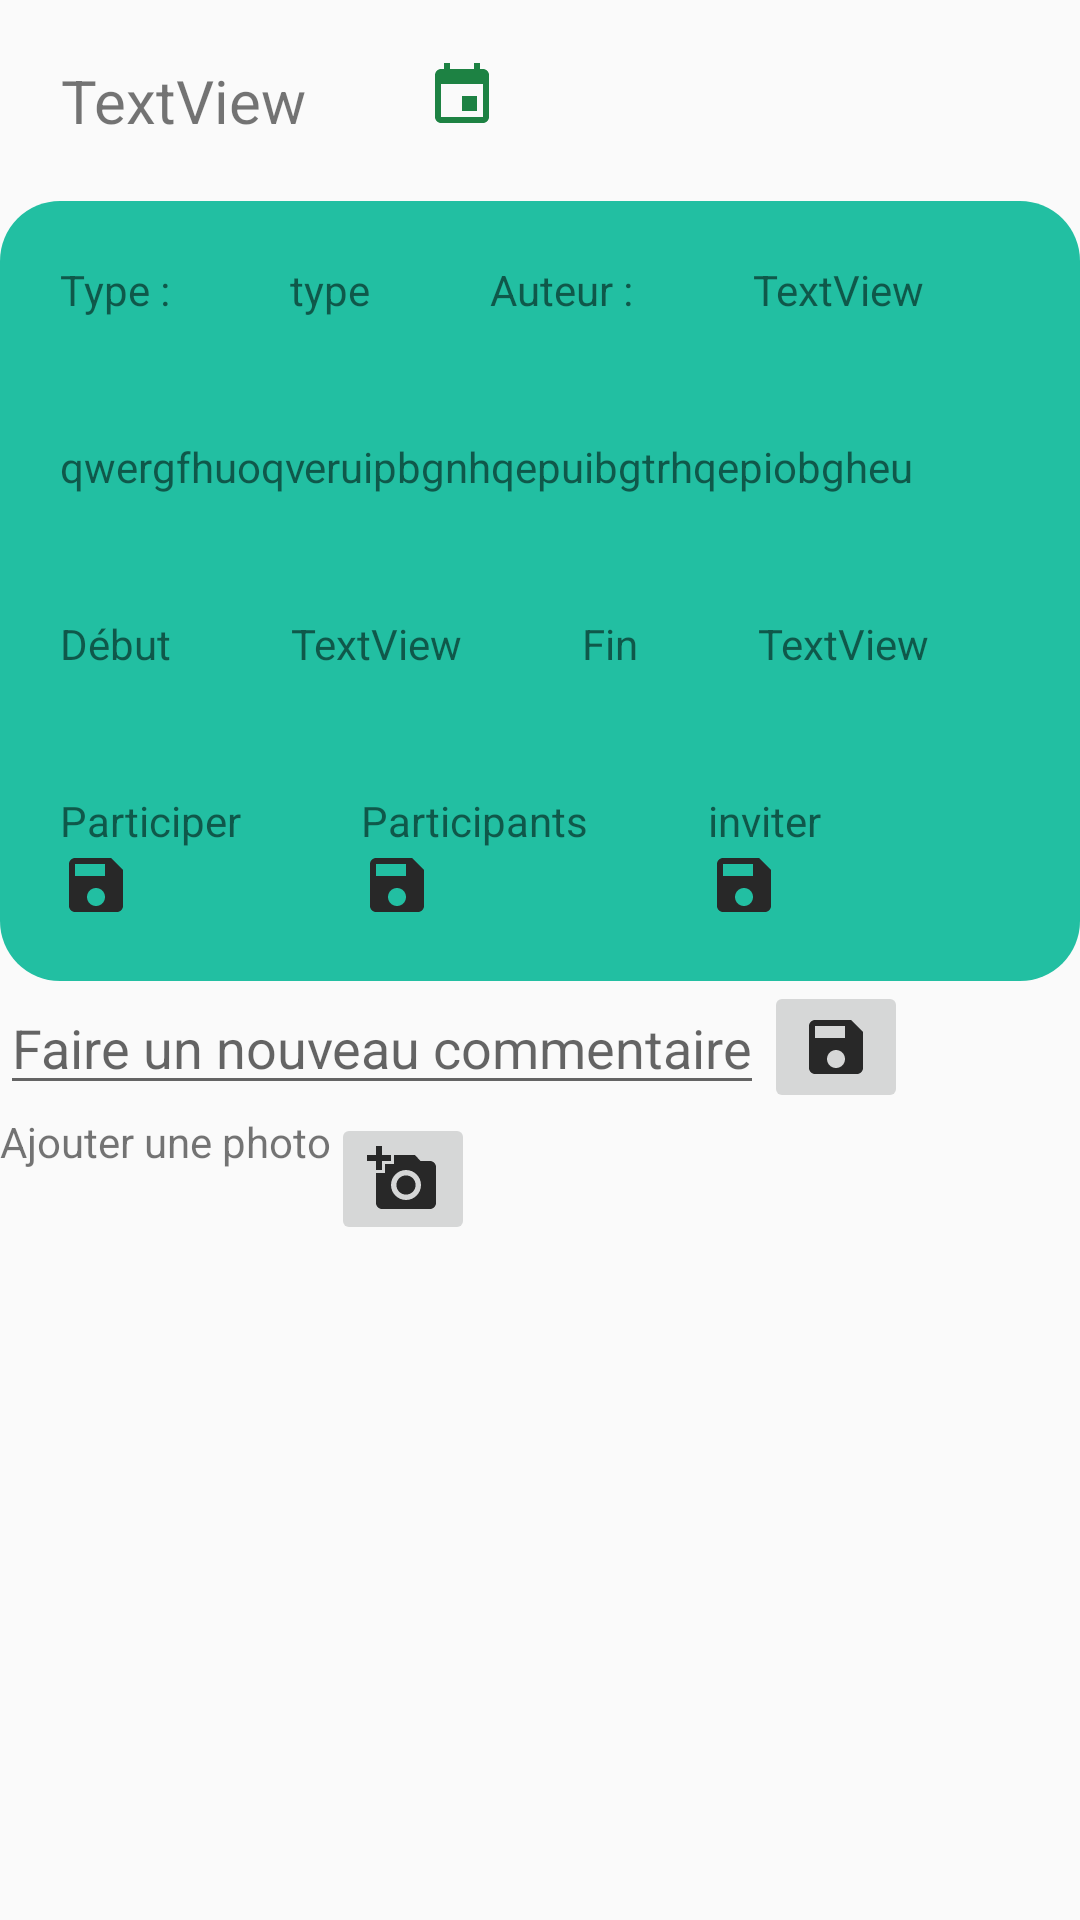

Screen size 1080 × 1920. Icon name, then its box in pixels as (x1, y1, x2, y2):
event: (435, 63, 489, 123)
save: (69, 858, 123, 912), (370, 858, 424, 912), (717, 858, 771, 912), (776, 999, 896, 1095)
